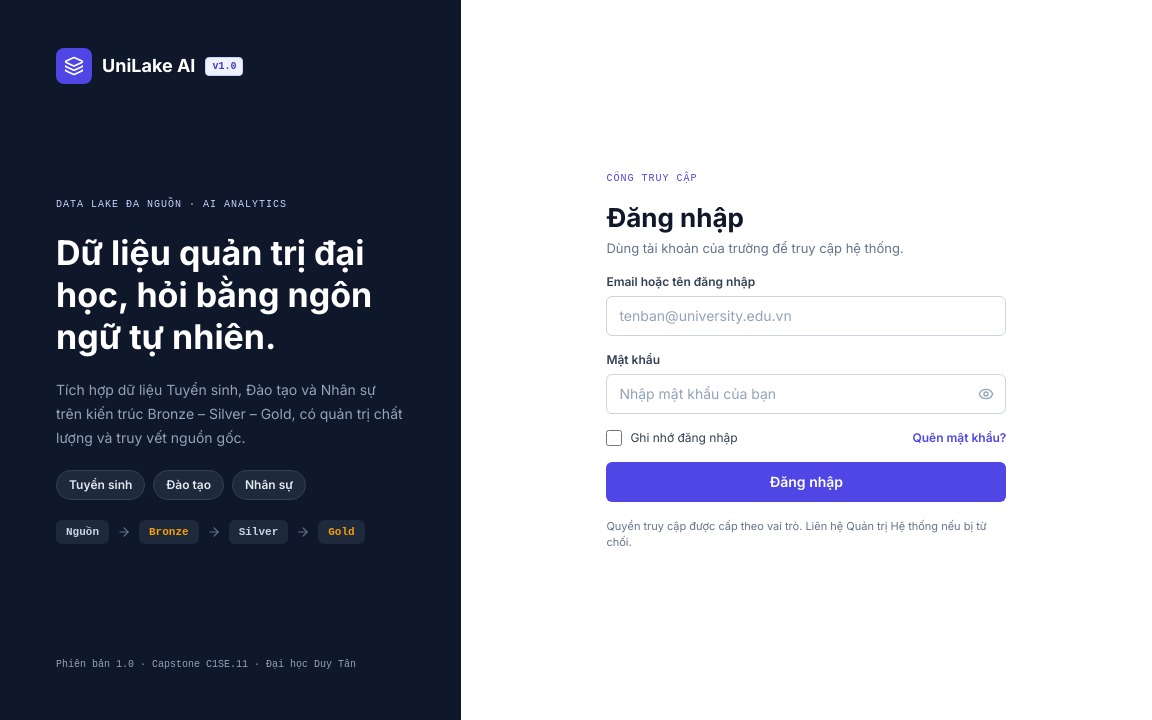
Test: LoginView › báo lỗi khi email sai định dạng
The image size is (1152, 720).
In the field labelled "Email hoặc tên đăng nhập": (806, 316) [606,296,1006,336], type "admin@unilake"
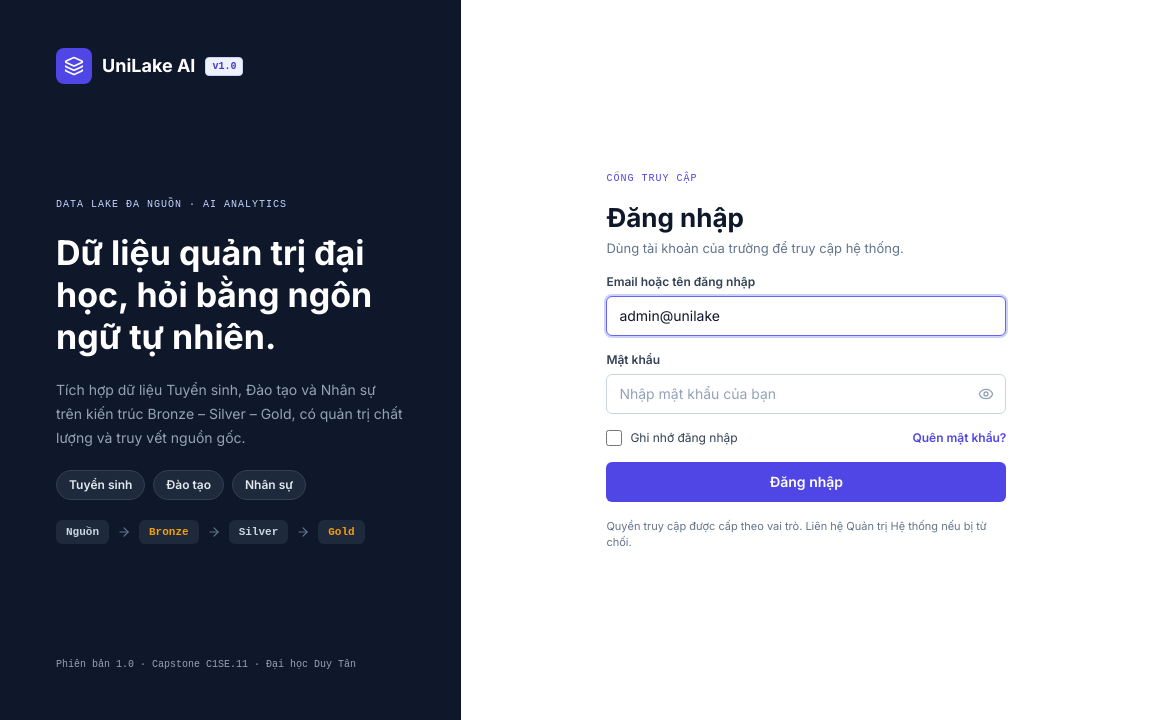
In the password field labelled "Mật khẩu": (806, 394) [606,374,1006,414], type "Password@123"
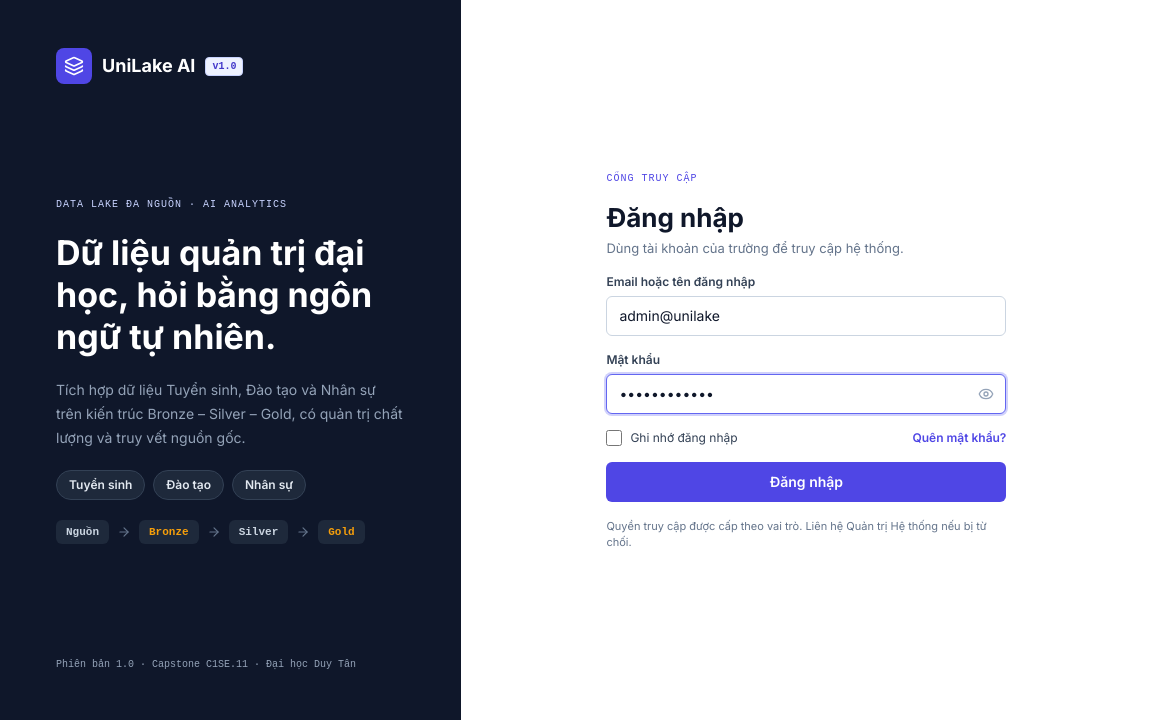
Click the button "Đăng nhập": click(806, 482) [606,462,1006,502]
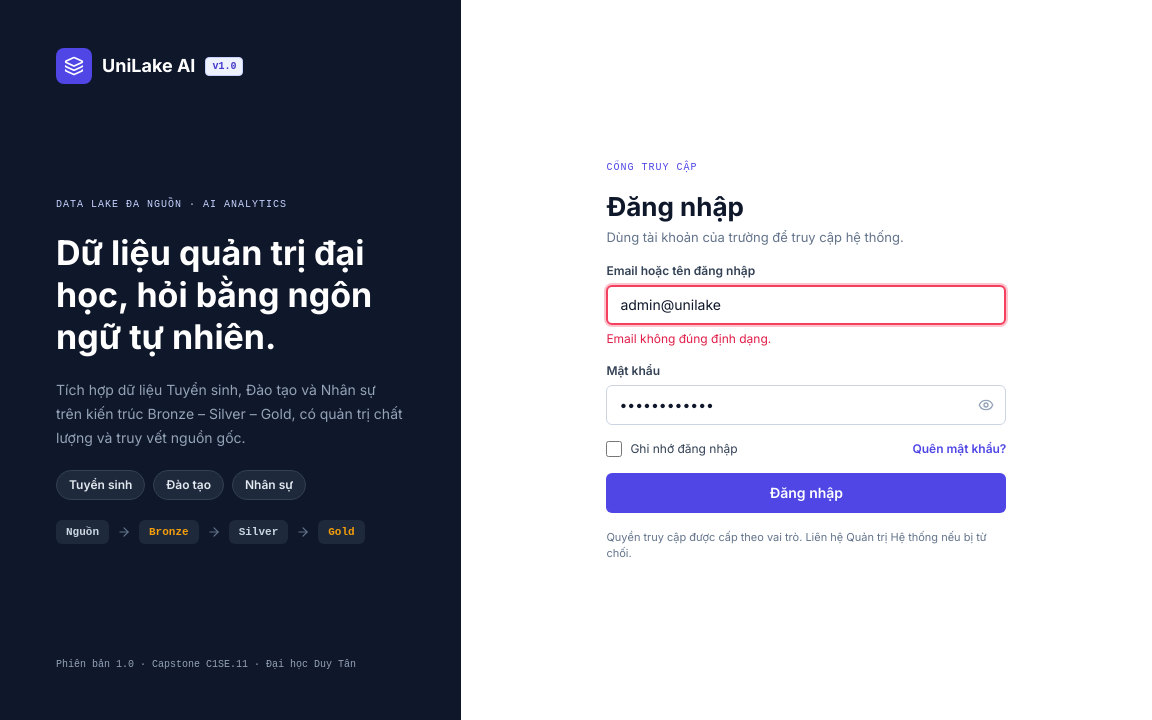
Expected: the text "Email không đúng định dạng." is shown, [606,330,771,346]
